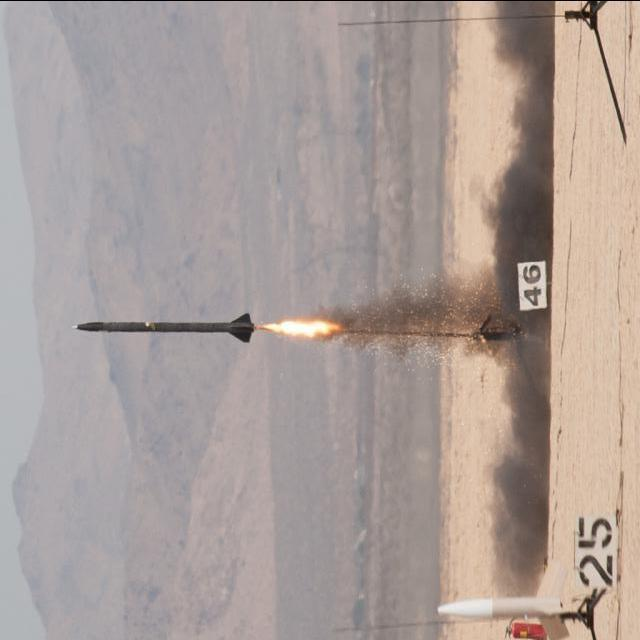missile: (75, 313, 256, 346)
